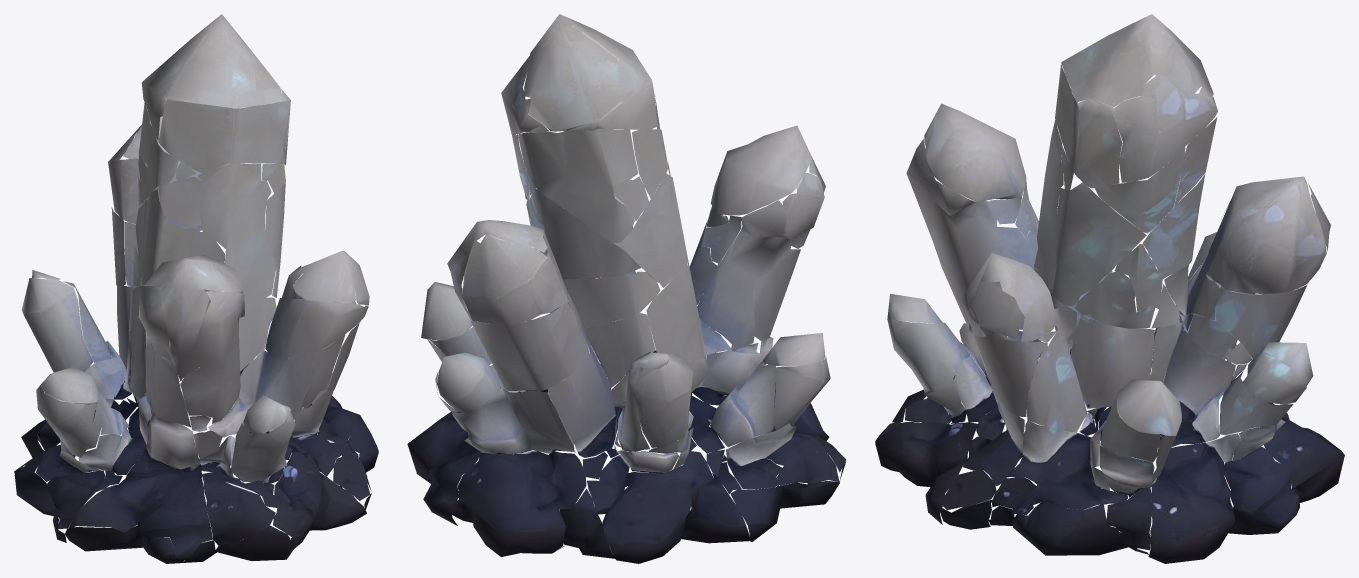
File: cristal-veio.glb
The picture shows the model from 3 angles, left to right: view 1: azimuth 30°, elevation 25°; view 2: azimuth 150°, elevation 25°; view 3: azimuth 270°, elevation 25°; orthographic projection. The views are drawn at different scales.
Parts seen in each view (by area): view 1: tripo_node_012fb671-8c35-4691-a0e2-a20994e4b3f9; view 2: tripo_node_012fb671-8c35-4691-a0e2-a20994e4b3f9; view 3: tripo_node_012fb671-8c35-4691-a0e2-a20994e4b3f9.
Part boxes in pixels (x1=…): tripo_node_012fb671-8c35-4691-a0e2-a20994e4b3f9: x1=14, y1=14, x2=378, y2=563; tripo_node_012fb671-8c35-4691-a0e2-a20994e4b3f9: x1=407, y1=14, x2=846, y2=563; tripo_node_012fb671-8c35-4691-a0e2-a20994e4b3f9: x1=875, y1=14, x2=1344, y2=563.
Bounding box in the file's own units: 0.8177 × 1.01 × 0.8808.
Materials: 1 (1 with a texture image).
